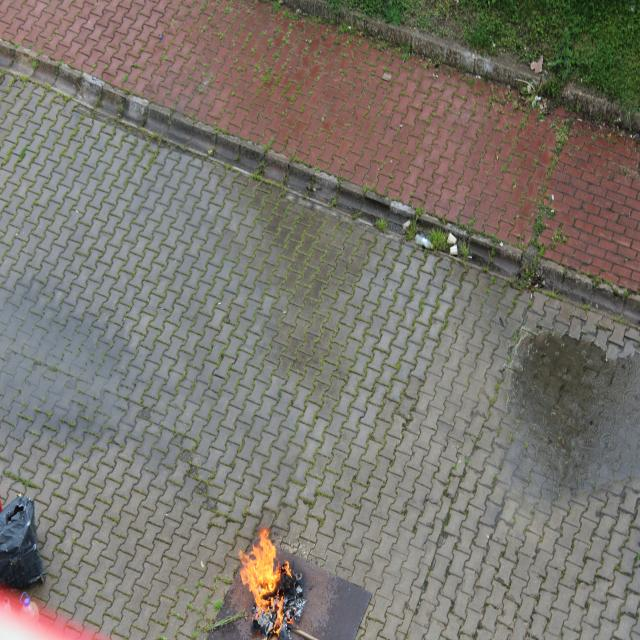fire: (234, 517, 296, 624)
